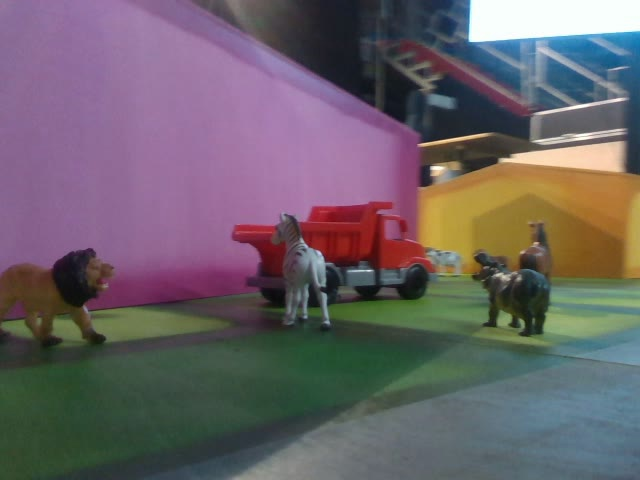toy: (1, 241, 117, 348), (265, 211, 337, 336), (469, 263, 556, 338)
